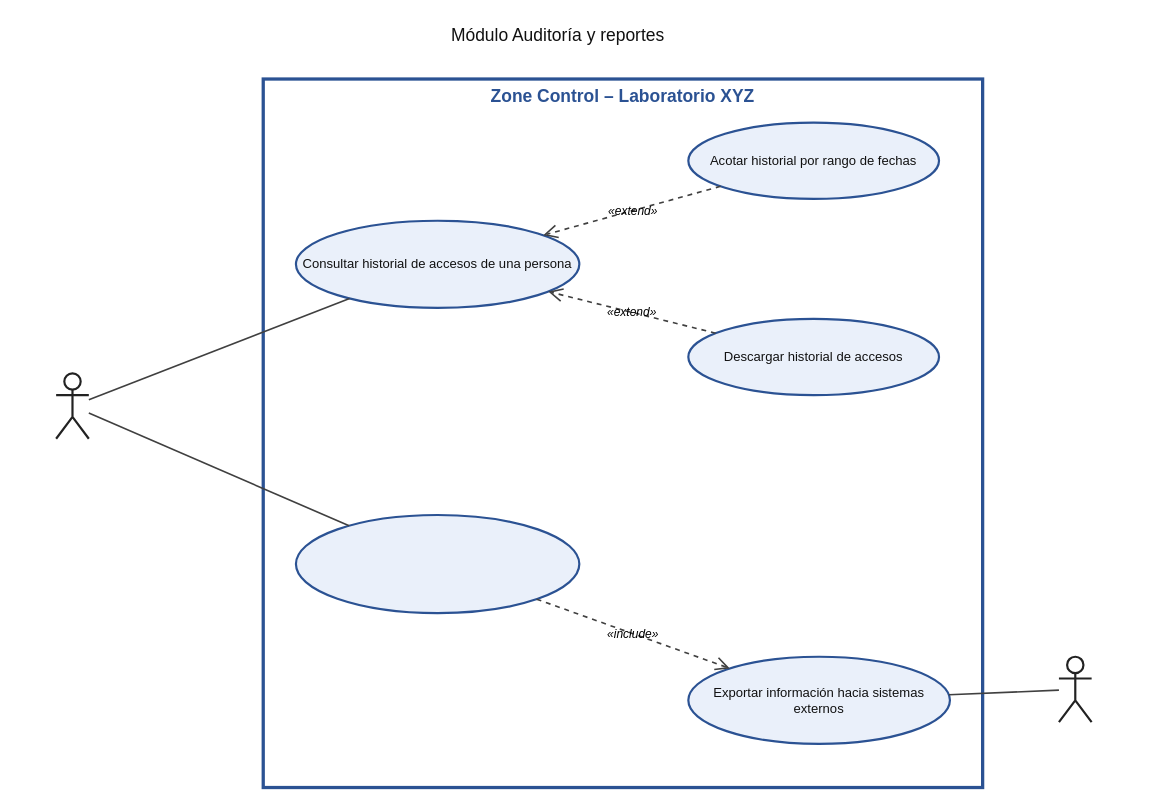
Some shapes in this 1149 by 808 pixel diagram are drawn without their labels. Each missing label, with the centre of its shape:
"Generar archivo de intercambio con el socio internacional" goes at pixel 437 563.
"Socio internacional" goes at pixel 1074 689.
"Supervisor/Auditor" goes at pixel 72 405.
